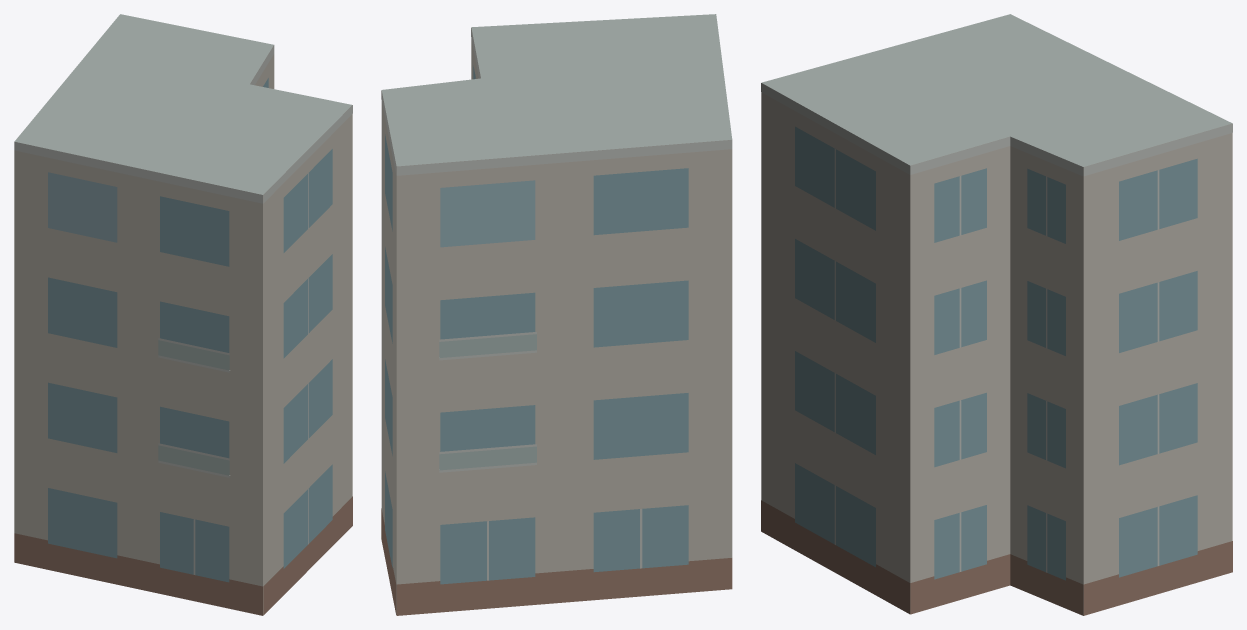
Rendered from survey-upis-32633710.glb.
3 views of the same model, side by side, from view 1: azimuth 30°, elevation 25°; view 2: azimuth 150°, elevation 25°; view 3: azimuth 270°, elevation 25° (orthographic). The views are drawn at different scales.
Visible parts, largest first — view 1: survey-upis-32633710.tmp; view 2: survey-upis-32633710.tmp; view 3: survey-upis-32633710.tmp.
Part boxes in pixels (x1,y1,x2,y2): survey-upis-32633710.tmp: [14, 14, 352, 615]; survey-upis-32633710.tmp: [381, 14, 732, 615]; survey-upis-32633710.tmp: [761, 14, 1232, 615].
Size of the model in its own units: 8.53 by 11.65 by 11.1.
